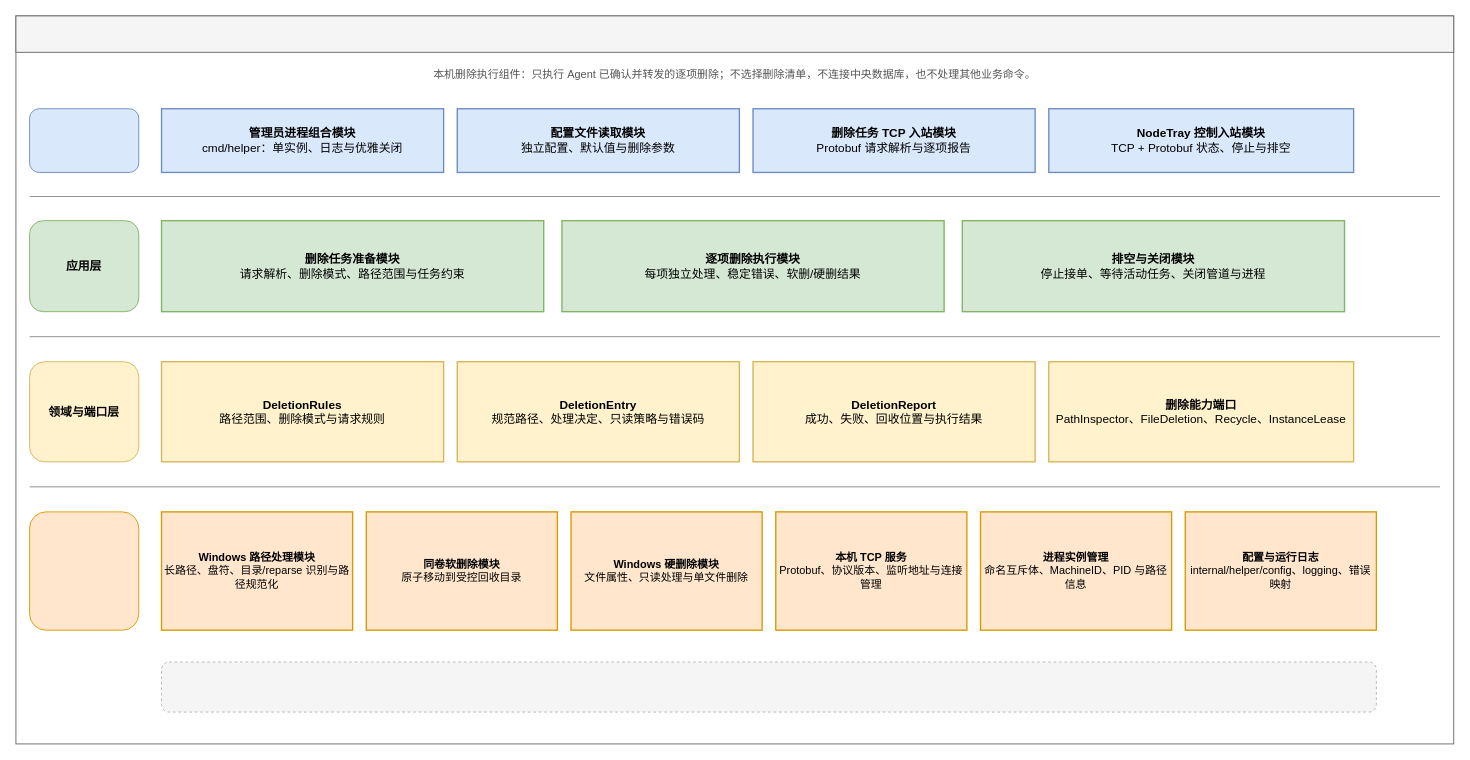
Some shapes in this 1470 by 760 pixel diagram are drawn without their labels. Each missing label, with the centre of its shape:
"helper.exe 目标分层架构" goes at point (734, 33).
"基础设施层" goes at point (84, 570).
"模块边界：Helper 只执行当前任务 ID 的逐项删除，不重放旧任务；删除清单、代表保护、二次确认和中断后的剩余文件重算由 GUI 负责。" goes at point (768, 686).
"组合与入站层" goes at point (84, 140).
